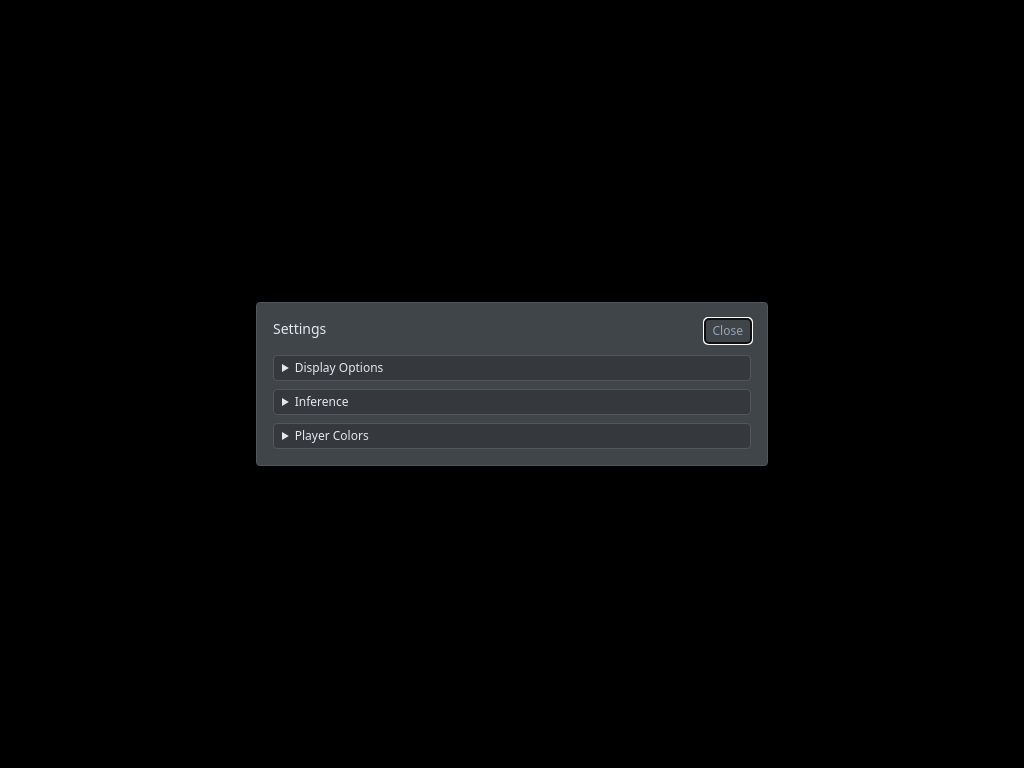
SettingsModal player colors › shows diplomacy knobs when mode is diplomacy-family
Click the heading "Player Colors" at (332, 436), box [295, 427, 369, 444]
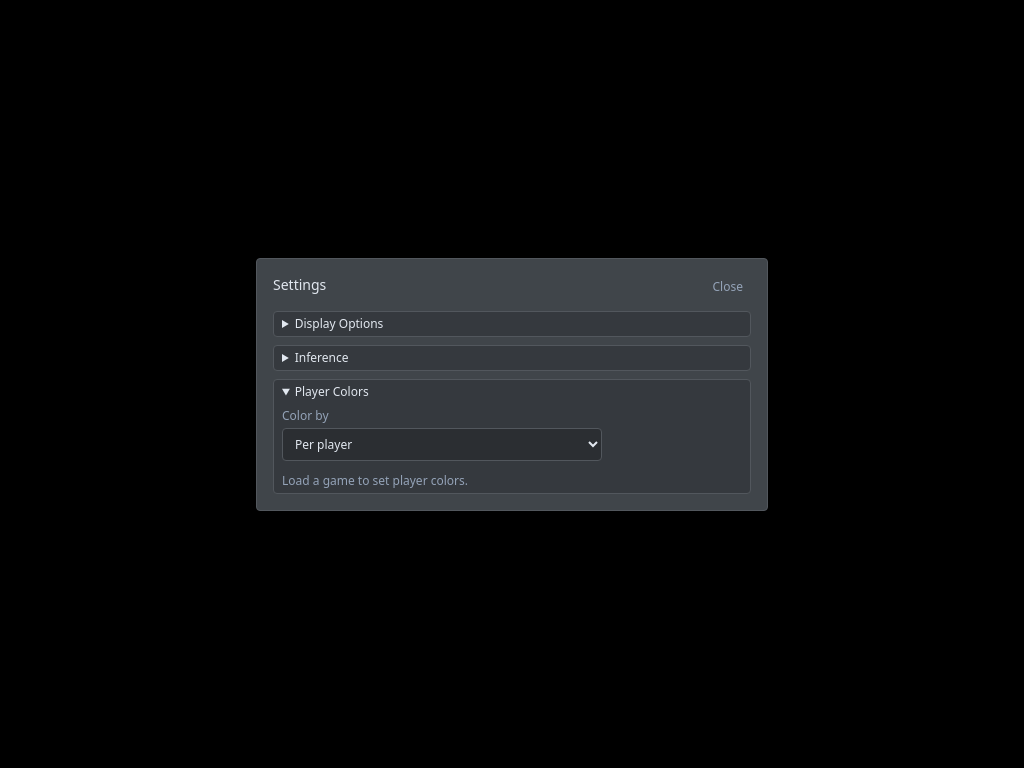
Select "Diplomacy family" in the dropdown labelled "Color by" at (442, 444), box [282, 428, 602, 460]
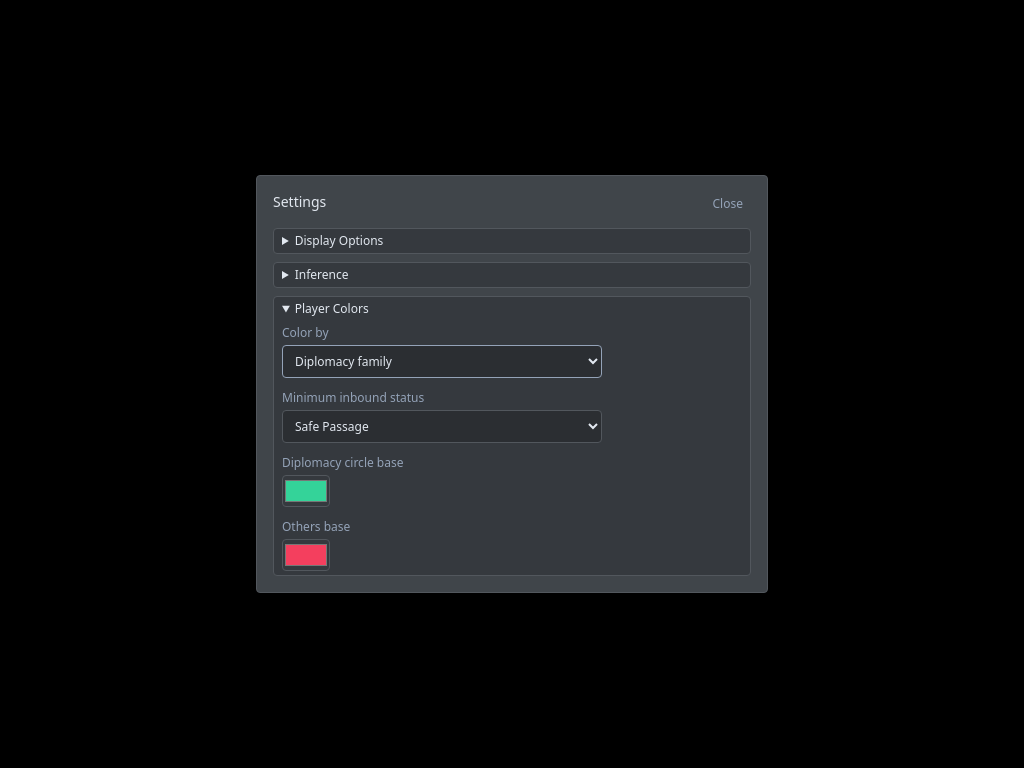
Now the dropdown labelled "Minimum inbound status" is shown, box [282, 410, 602, 443]
Now the colour field named "diplomacy circle base color" is shown, box [282, 475, 330, 507]
Now the colour field named "others base color" is shown, box [282, 539, 330, 571]
